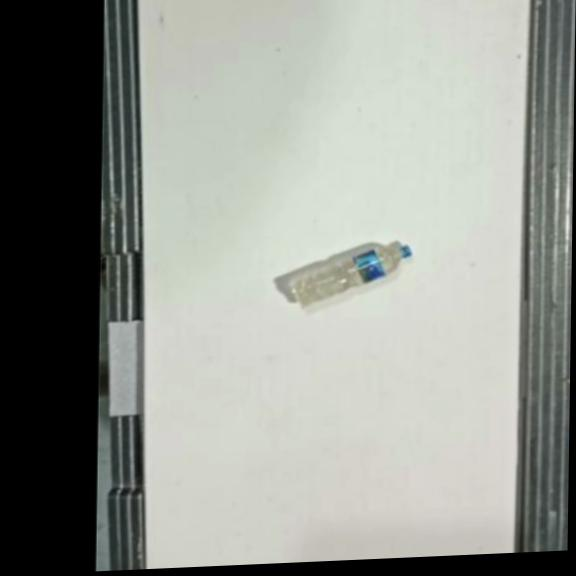Plastik: (287, 244, 412, 308)
